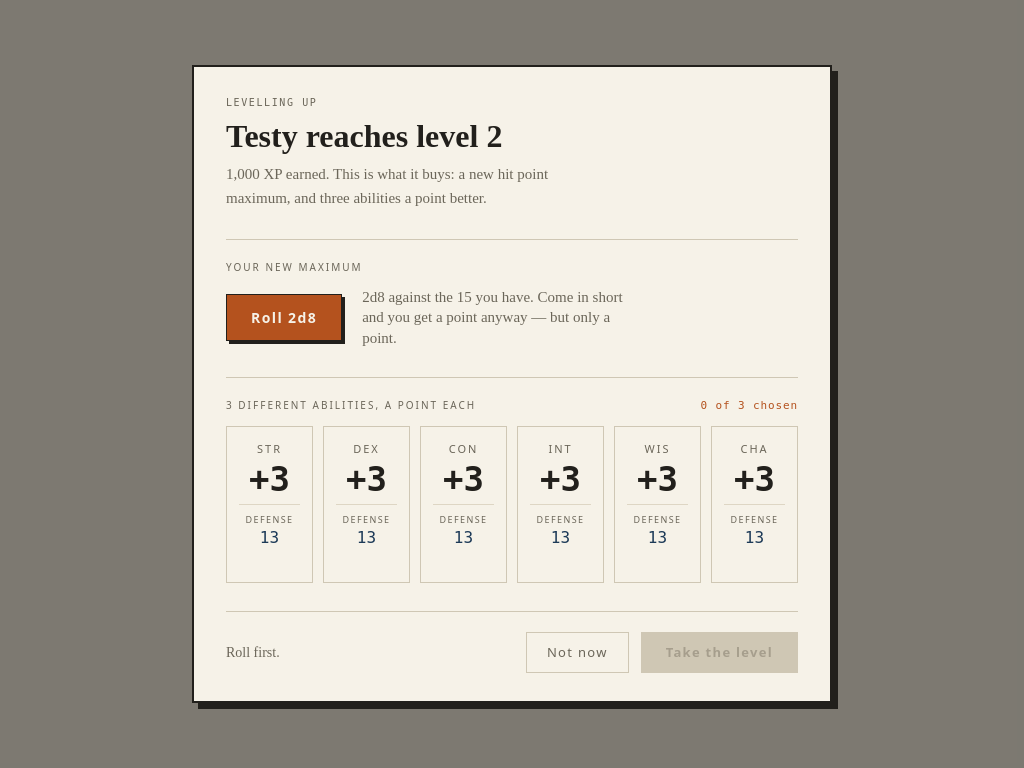
it: committing › is dead until the dice are rolled and three are chosen
Check: the button "Take the level" is disabled, box 641,632 -> 798,673
Step 1. Click the button "Roll 2d8" → (284, 318), box 226,294 -> 342,341
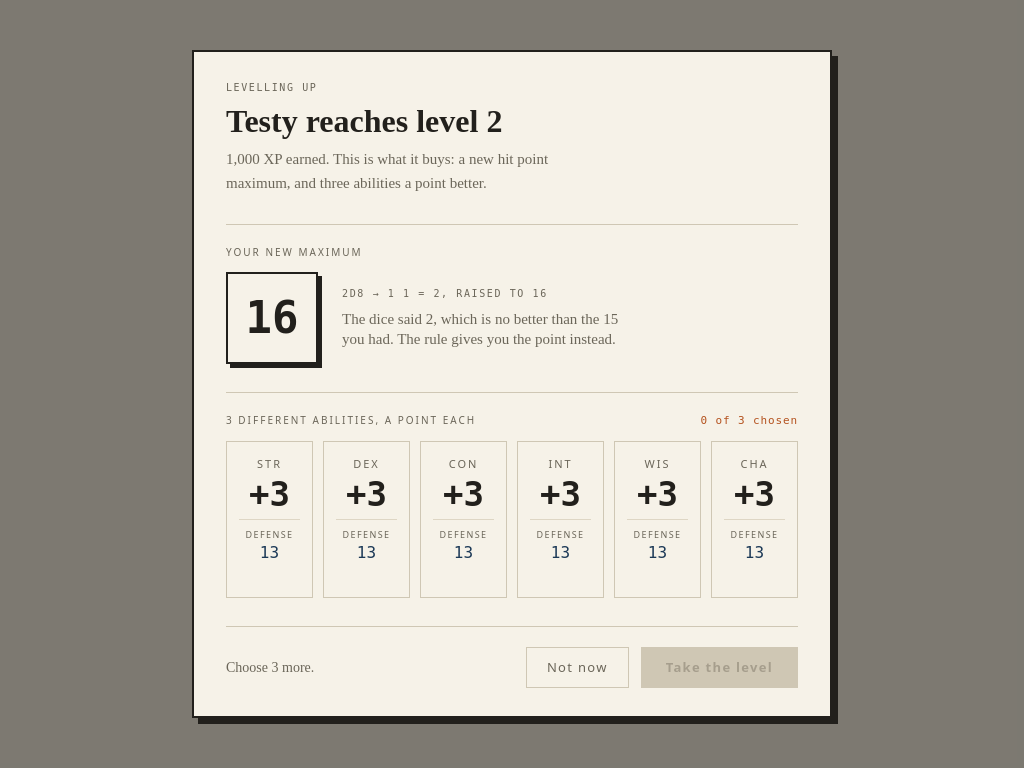
Check: the button "Take the level" is disabled, box 641,647 -> 798,688
Step 2. Click the button "str +3 Defense 13" → (270, 519), box 226,441 -> 313,598
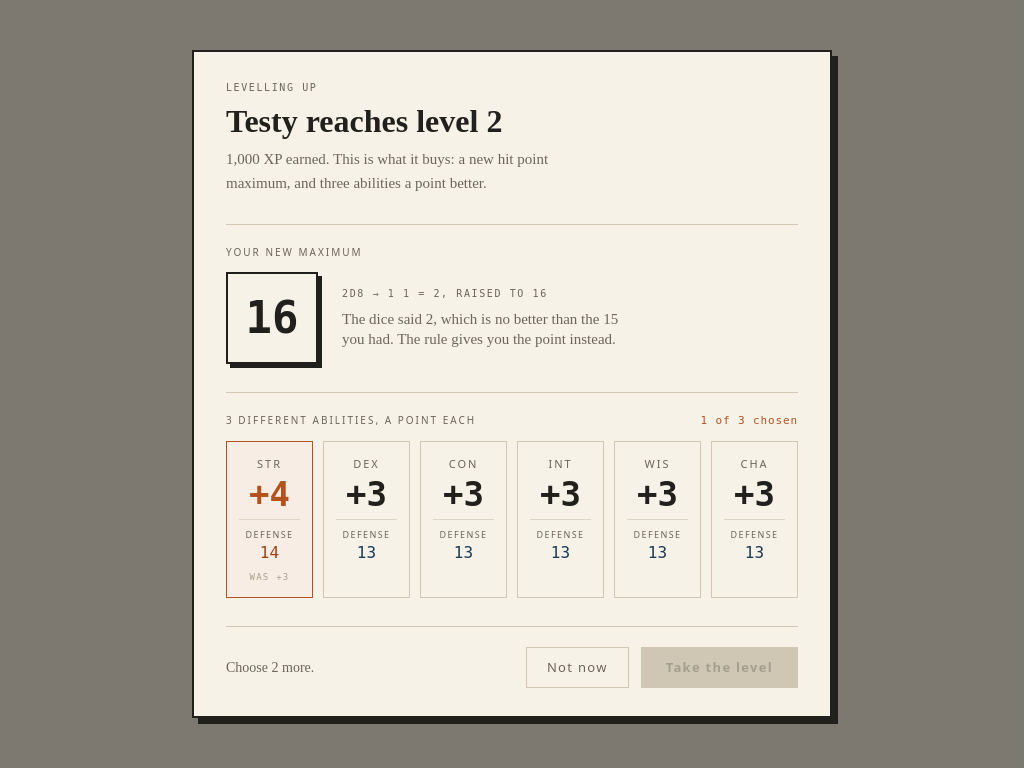
Step 3. Click the button "dex +3 Defense 13" → (366, 519), box 323,441 -> 410,598
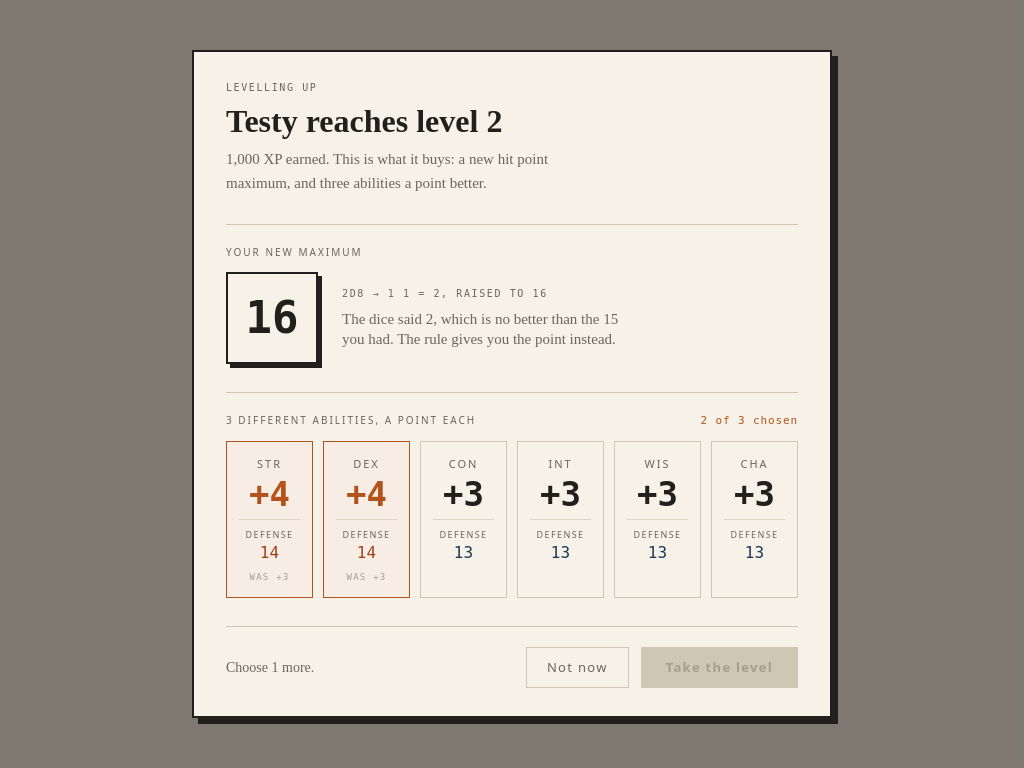
Step 4. Click the button "wis +3 Defense 13" → (658, 519), box 614,441 -> 701,598
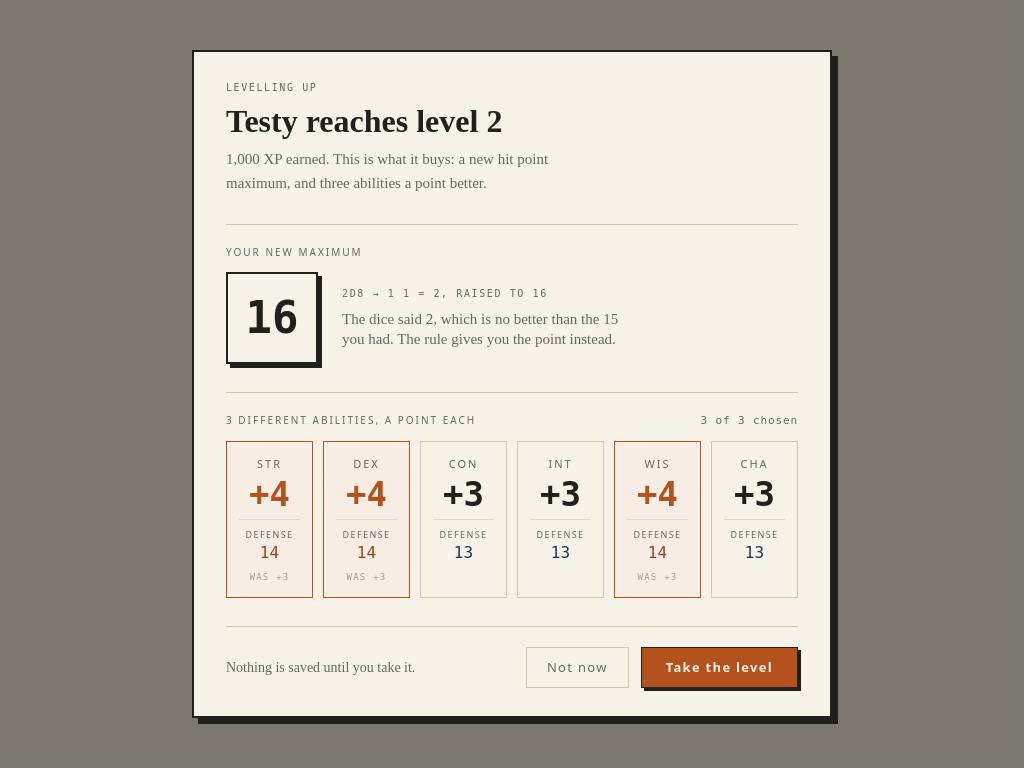
Check: the button "Take the level" is enabled, box 641,647 -> 798,688
